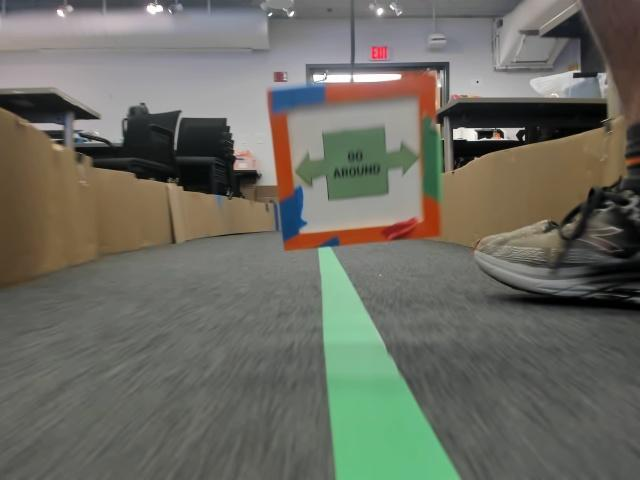Go Around: (293, 134, 415, 202)
